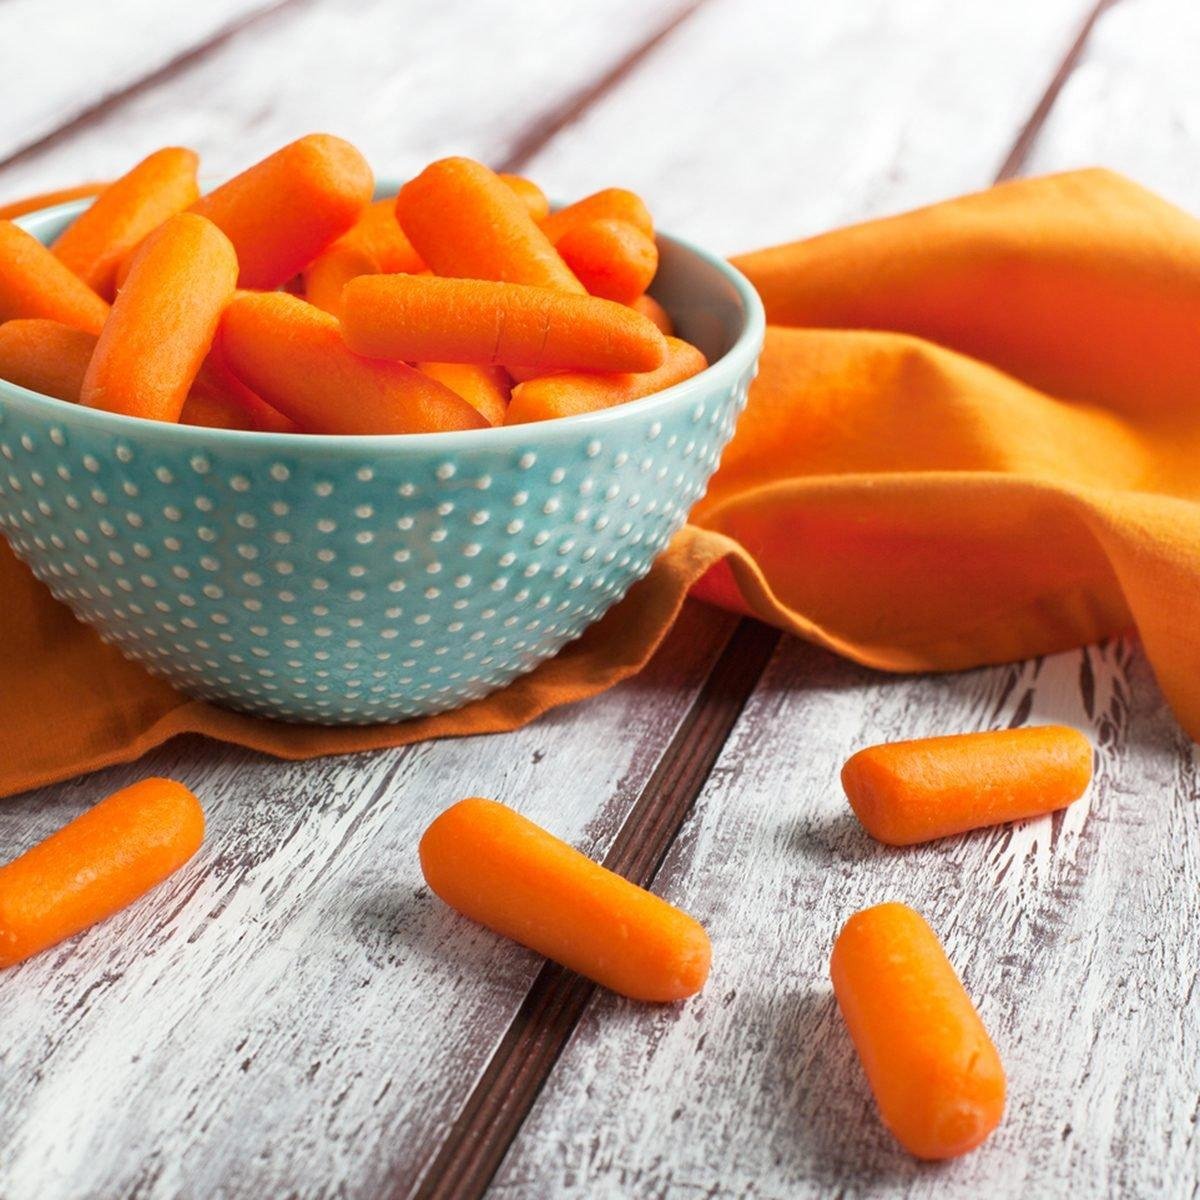carrot: (113, 156, 618, 430), (415, 795, 734, 1032), (819, 908, 1014, 1173), (315, 248, 680, 384), (0, 212, 238, 402), (1, 780, 210, 968), (833, 736, 1104, 840)
